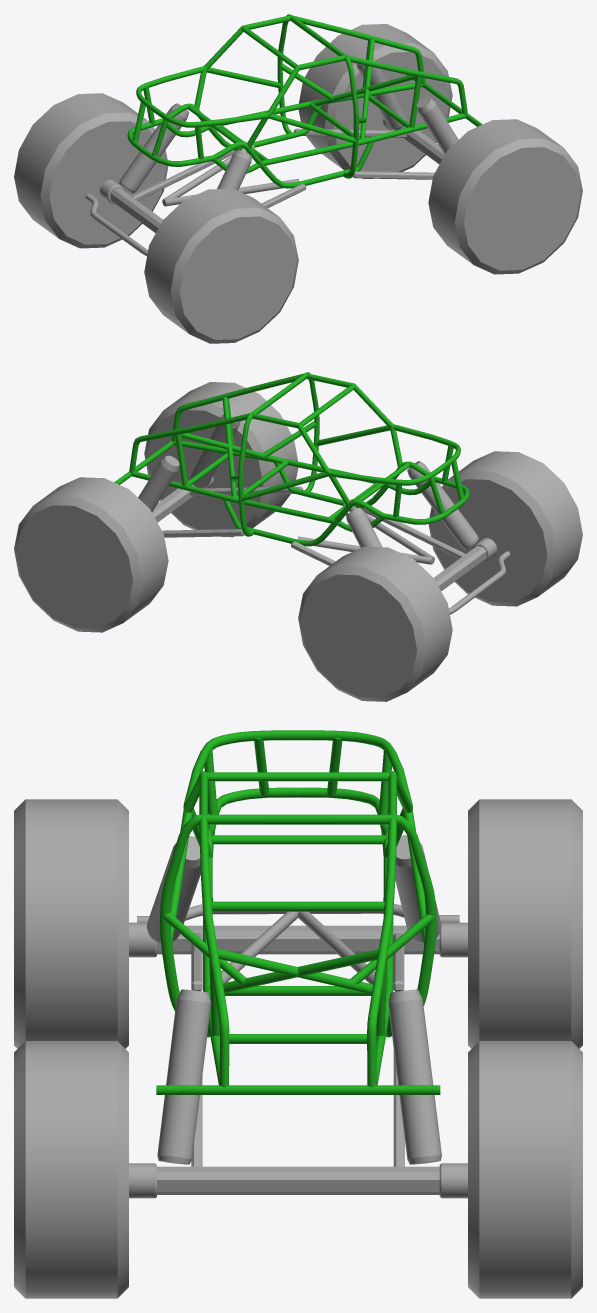
The model's file is buggy_ver01.fbx.
3 renders of one model, top to bottom at view 1: azimuth 30°, elevation 25°; view 2: azimuth 150°, elevation 25°; view 3: azimuth 270°, elevation 25°, orthographic. The views are drawn at different scales.
Visible parts, largest first — view 1: pCylinder27, pCylinder34, polySurface2, pCylinder1, pCylinder33, pCylinder32, pCylinder35, pCylinder36, pCube6, pCylinder31, pCube3, pCube1 (+4 smaller); view 2: pCylinder33, pCylinder1, polySurface2, pCylinder27, pCylinder34, pCylinder31, pCylinder36, pCylinder35, pCube6, pCylinder32, pCube2, pCube1 (+4 smaller); view 3: polySurface2, pCylinder34, pCylinder33, pCylinder27, pCylinder1, pCube1, pCylinder35, pCylinder36, pCube6, pCylinder31, pCylinder32, pCylinder39 (+7 smaller).
Boxes of the visible parts, left/top/right/bottom form: pCylinder27: left=144, top=188, right=298, bottom=343; pCylinder34: left=428, top=119, right=582, bottom=274; polySurface2: left=127, top=14, right=482, bottom=188; pCylinder1: left=14, top=93, right=168, bottom=248; pCylinder33: left=298, top=24, right=452, bottom=178; pCylinder32: left=119, top=103, right=189, bottom=193; pCylinder35: left=416, top=97, right=458, bottom=154; pCylinder36: left=356, top=52, right=405, bottom=129; pCube6: left=110, top=188, right=162, bottom=233; pCylinder31: left=217, top=149, right=251, bottom=190; pCube3: left=131, top=141, right=246, bottom=200; pCube1: left=394, top=126, right=444, bottom=164; pCylinder33: left=14, top=477, right=168, bottom=632; pCylinder1: left=298, top=546, right=452, bottom=701; polySurface2: left=114, top=372, right=469, bottom=546; pCylinder27: left=428, top=451, right=582, bottom=606; pCylinder34: left=144, top=382, right=298, bottom=537; pCylinder31: left=407, top=461, right=478, bottom=549; pCylinder36: left=138, top=455, right=179, bottom=511; pCylinder35: left=190, top=411, right=239, bottom=488; pCube6: left=434, top=546, right=486, bottom=591; pCylinder32: left=346, top=507, right=382, bottom=547; pCube2: left=350, top=499, right=465, bottom=558; pCube1: left=152, top=485, right=194, bottom=522; polySurface2: left=156, top=730, right=440, bottom=1094; pCylinder34: left=14, top=1041, right=128, bottom=1298; pCylinder33: left=468, top=1041, right=582, bottom=1298; pCylinder27: left=14, top=799, right=128, bottom=1048; pCylinder1: left=468, top=799, right=582, bottom=1048; pCube1: left=157, top=1166, right=439, bottom=1194; pCylinder35: left=157, top=989, right=211, bottom=1164; pCylinder36: left=388, top=989, right=441, bottom=1164; pCube6: left=157, top=925, right=439, bottom=954; pCylinder31: left=146, top=836, right=200, bottom=943; pCylinder32: left=395, top=835, right=441, bottom=943; pCylinder39: left=137, top=903, right=459, bottom=922.
Bounding box in the file's own units: 586 × 402 × 289.
